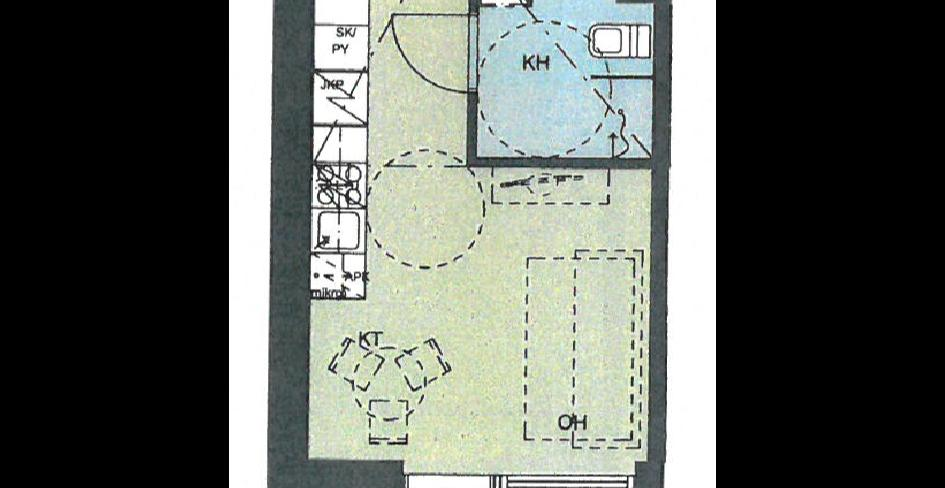door: (384, 4, 476, 96)
window: (486, 470, 640, 488)
